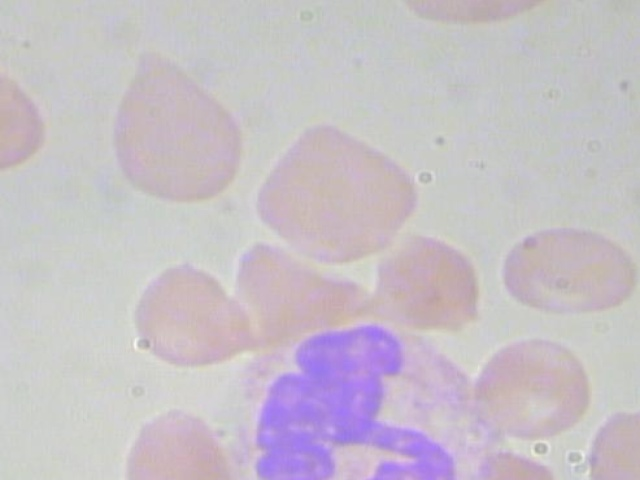RBC: (252, 116, 434, 273), (91, 47, 250, 206), (108, 238, 258, 370), (100, 374, 250, 480), (465, 335, 602, 447), (487, 222, 640, 322), (0, 46, 52, 178), (584, 405, 640, 480), (0, 374, 3, 480)
WBC: (217, 318, 505, 480)
